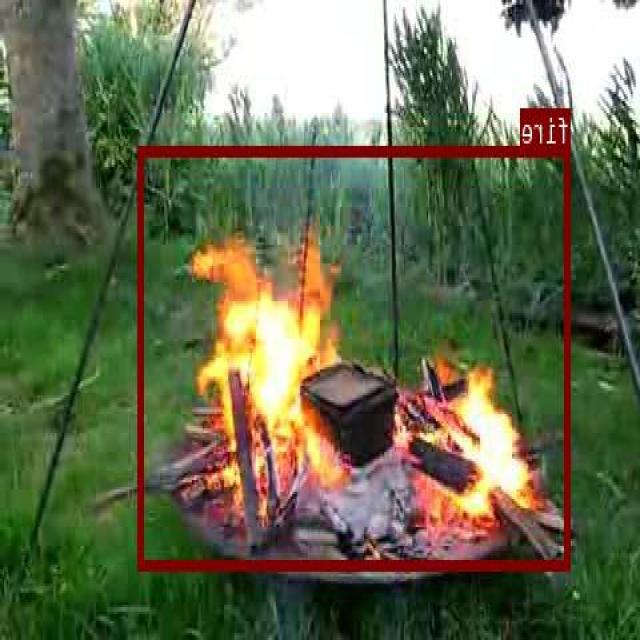fire: (139, 146, 571, 568)
